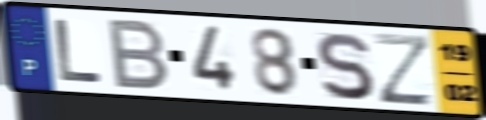4: (189, 24, 239, 94)
8: (248, 25, 300, 99)
B: (107, 17, 173, 92)
L: (52, 16, 106, 85)
S: (313, 30, 377, 103)
Z: (371, 31, 436, 108)
